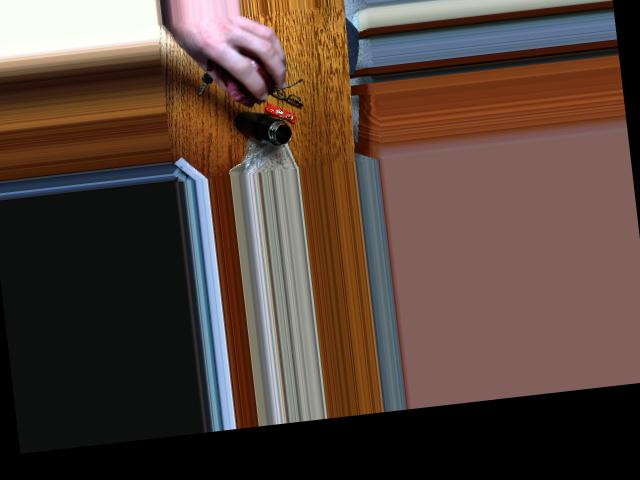onion: (214, 49, 281, 101)
